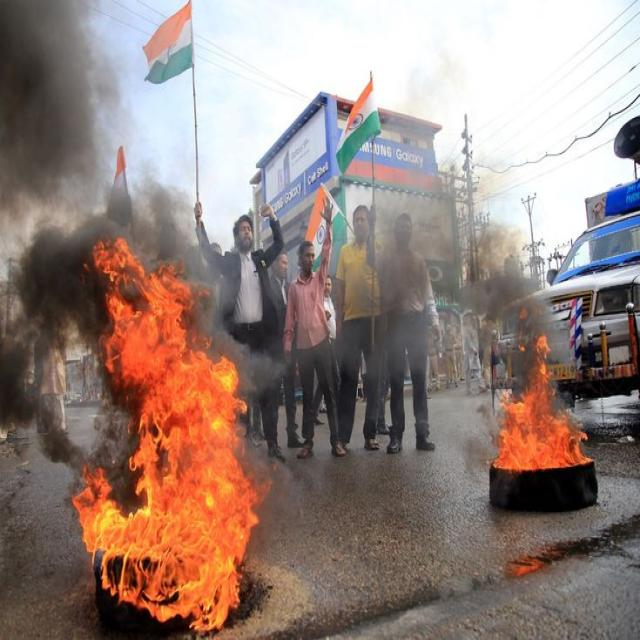fire: (74, 422, 272, 629), (83, 238, 247, 422), (492, 336, 591, 470)
